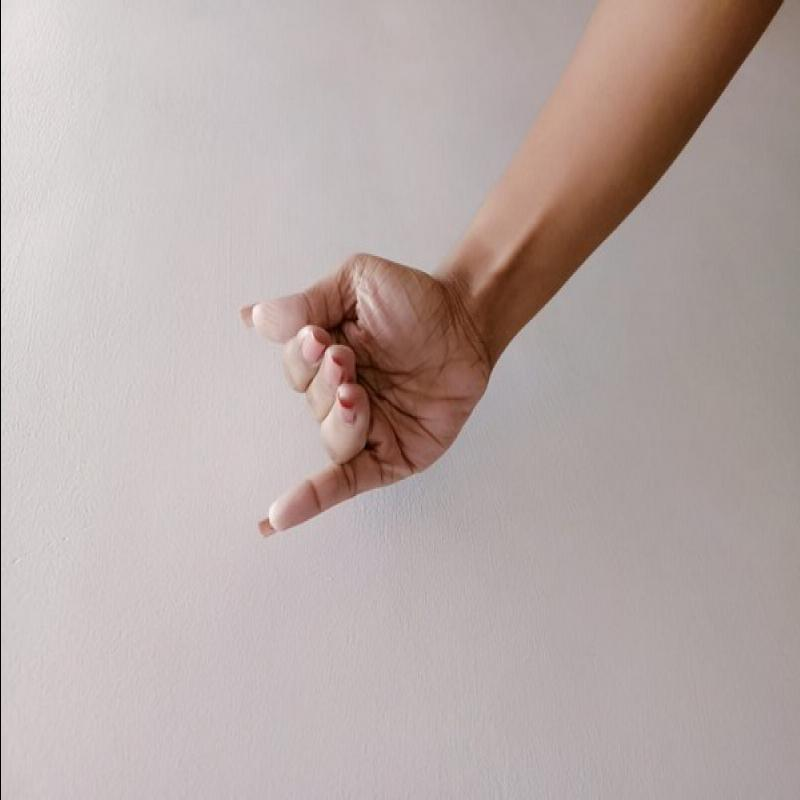Kartharee Mukham: (204, 239, 507, 554)
